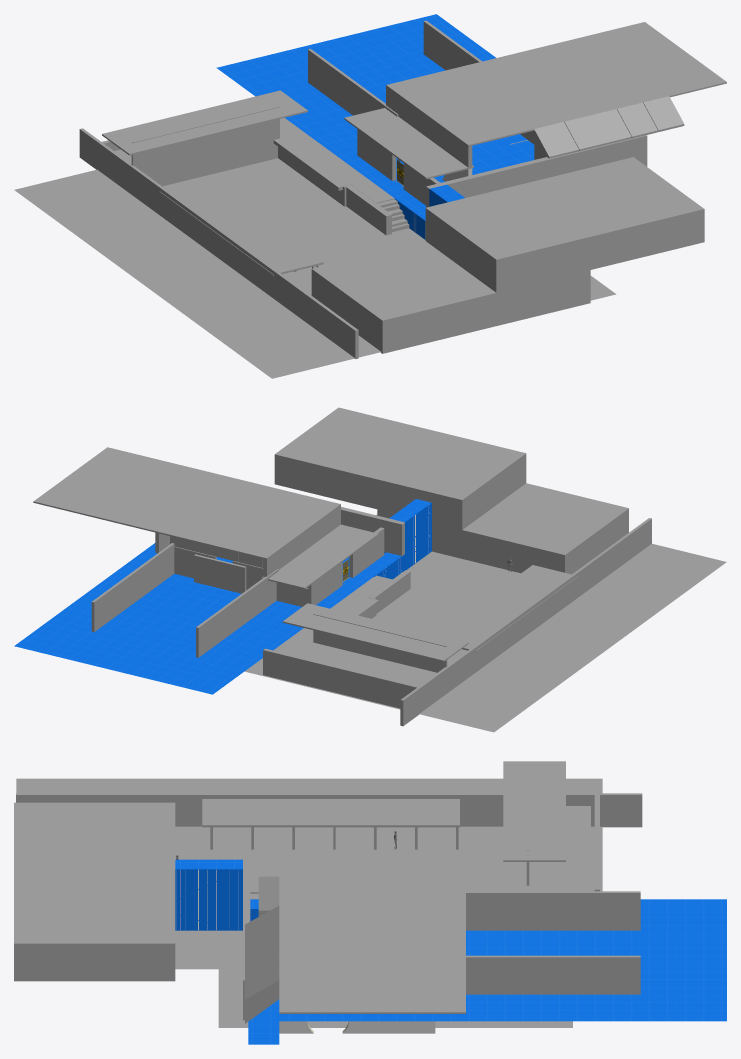
Rendered from TestModel.fbx.
3 views of the same model, one above another, from view 1: azimuth 30°, elevation 25°; view 2: azimuth 150°, elevation 25°; view 3: azimuth 270°, elevation 25° (orthographic). The views are drawn at different scales.
Visible parts, largest first — view 1: polySurface2, Third_Area, pCube10, pCube46, pPlane1, pCube44, pCube54, pCube39, pCube56, pCube9, pCube29, pCube8 (+12 smaller); view 2: polySurface2, pPlane1, pCube10, Third_Area, pCube46, pCube44, pCube56, pCube39, pCube30, pCube8, pCube28, pCube29 (+9 smaller); view 3: pPlane1, pCube10, Third_Area, polySurface2, pCube44, pCube39, pCube27, pCube28, pCube56, pCube46, pCube30, pPlane2 (+10 smaller).
Boxes of the visible parts, bbox=[...] form: polySurface2: bbox=[14, 158, 616, 378]; Third_Area: bbox=[425, 157, 704, 292]; pCube10: bbox=[386, 22, 726, 167]; pCube46: bbox=[311, 241, 590, 353]; pPlane1: bbox=[216, 14, 534, 239]; pCube44: bbox=[79, 128, 358, 359]; pCube54: bbox=[131, 106, 279, 186]; pCube39: bbox=[159, 179, 323, 276]; pCube56: bbox=[102, 90, 307, 155]; pCube9: bbox=[426, 135, 647, 207]; pCube29: bbox=[250, 196, 377, 267]; pCube8: bbox=[344, 108, 473, 179]; polySurface2: bbox=[244, 514, 726, 732]; pPlane1: bbox=[14, 499, 431, 694]; pCube10: bbox=[33, 447, 340, 577]; Third_Area: bbox=[274, 407, 526, 529]; pCube46: bbox=[377, 483, 628, 574]; pCube44: bbox=[263, 518, 651, 726]; pCube56: bbox=[282, 603, 468, 661]; pCube39: bbox=[437, 565, 578, 652]; pCube30: bbox=[273, 577, 436, 685]; pCube8: bbox=[261, 524, 378, 589]; pCube28: bbox=[91, 543, 174, 632]; pCube29: bbox=[392, 580, 495, 634]; pPlane1: bbox=[175, 859, 726, 1044]; pCube10: bbox=[279, 869, 465, 1013]; Third_Area: bbox=[14, 828, 175, 981]; polySurface2: bbox=[16, 778, 602, 969]; pCube44: bbox=[16, 793, 642, 891]; pCube39: bbox=[202, 799, 459, 827]; pCube27: bbox=[466, 891, 640, 930]; pCube28: bbox=[466, 955, 640, 994]; pCube56: bbox=[503, 761, 565, 861]; pCube46: bbox=[14, 802, 175, 828]; pCube30: bbox=[466, 806, 590, 891]; pPlane2: bbox=[218, 969, 572, 1027].
Bounding box in the file's own units: 6717 × 953 × 6398.
